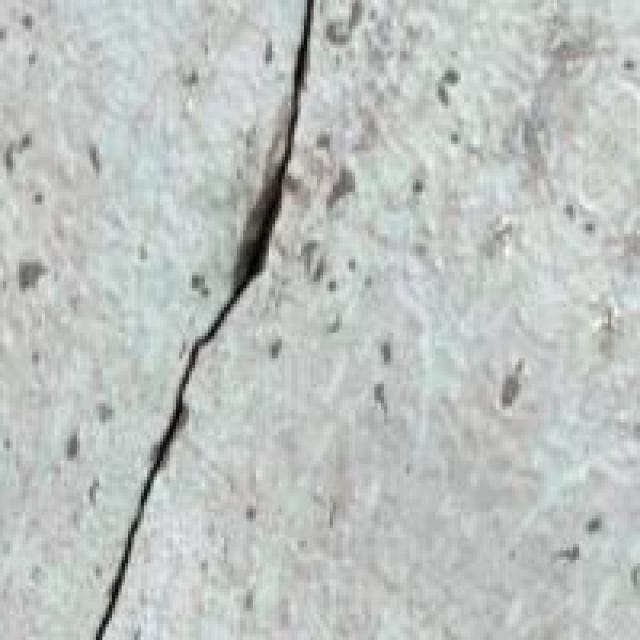crack: (55, 0, 342, 637)
